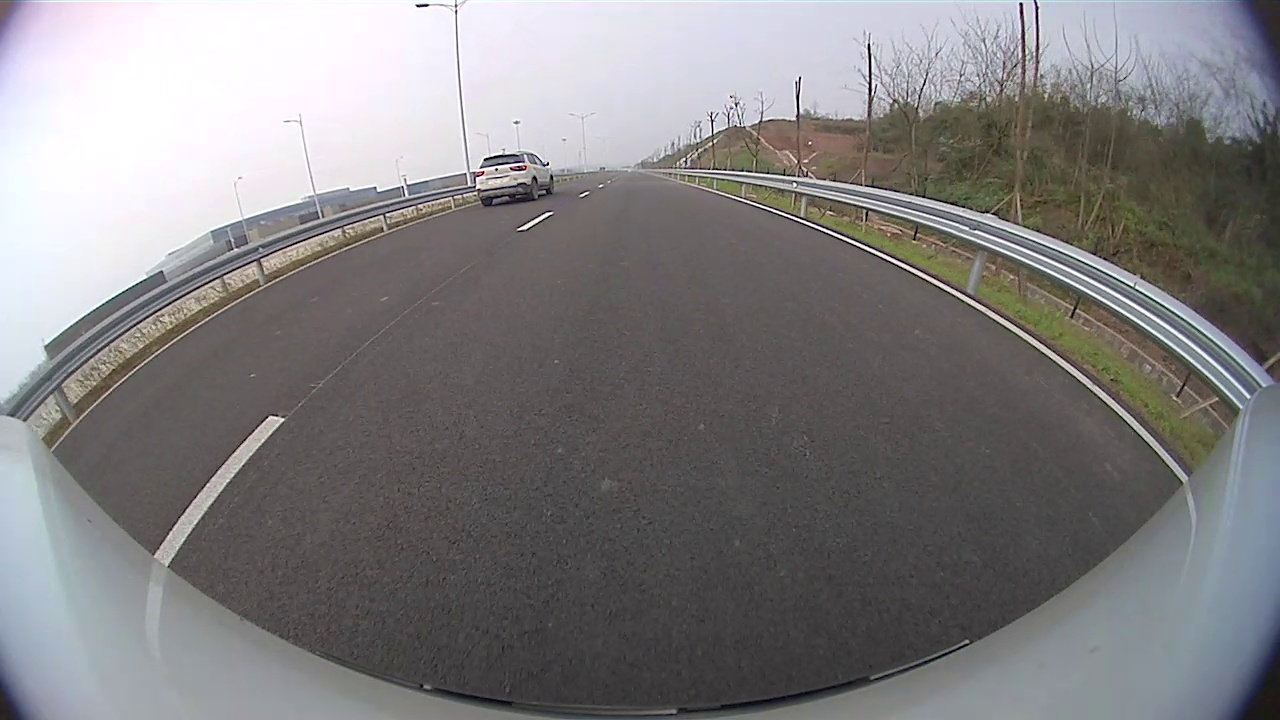car: (474, 150, 556, 208)
front: (547, 176, 554, 194)
rear: (530, 180, 541, 201)
